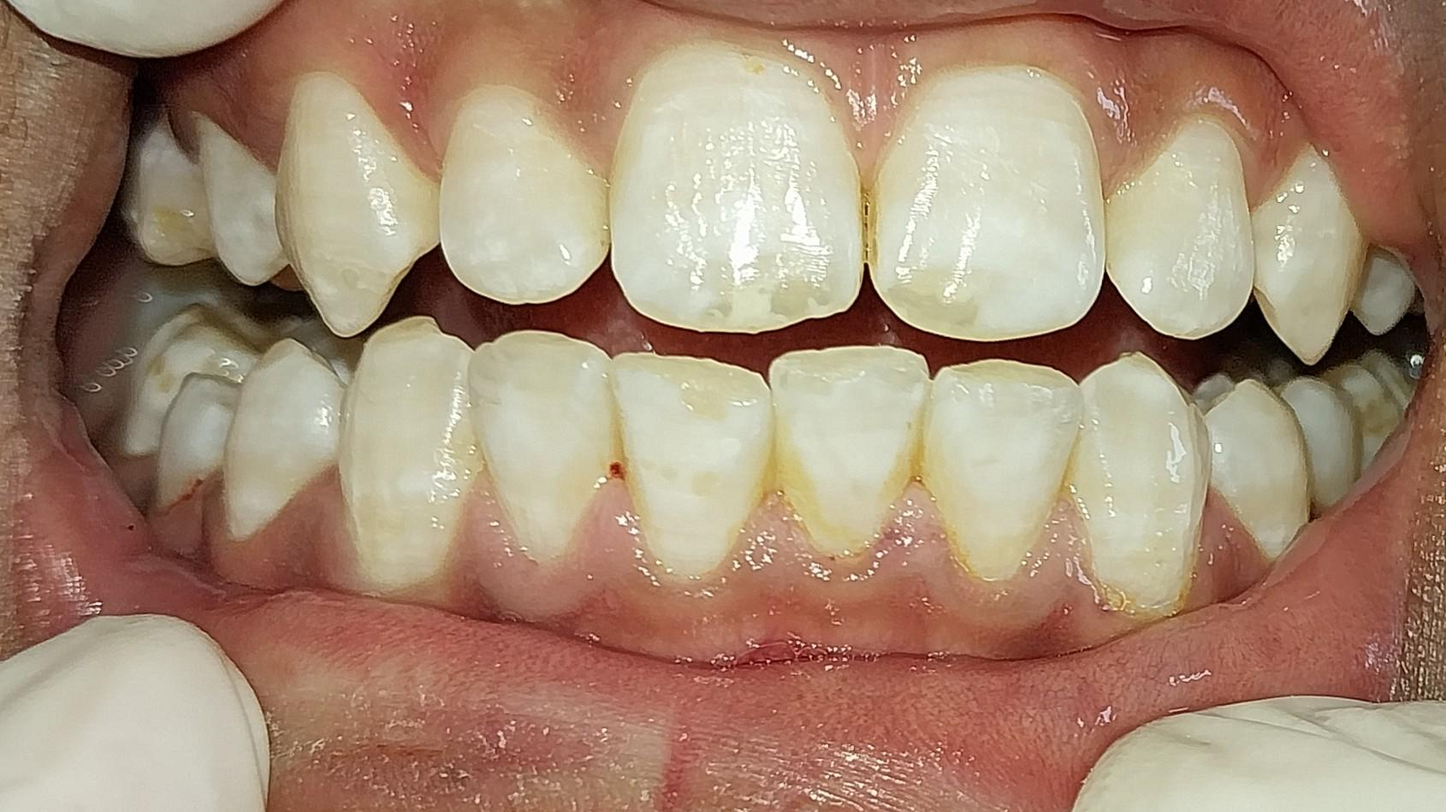tooth: (652, 65, 858, 311), (923, 86, 1074, 325), (452, 113, 613, 310), (615, 363, 765, 565), (1086, 363, 1201, 610), (287, 120, 416, 297), (935, 383, 1047, 559), (1122, 159, 1237, 325), (368, 377, 457, 582), (480, 356, 587, 518), (781, 358, 883, 523)
